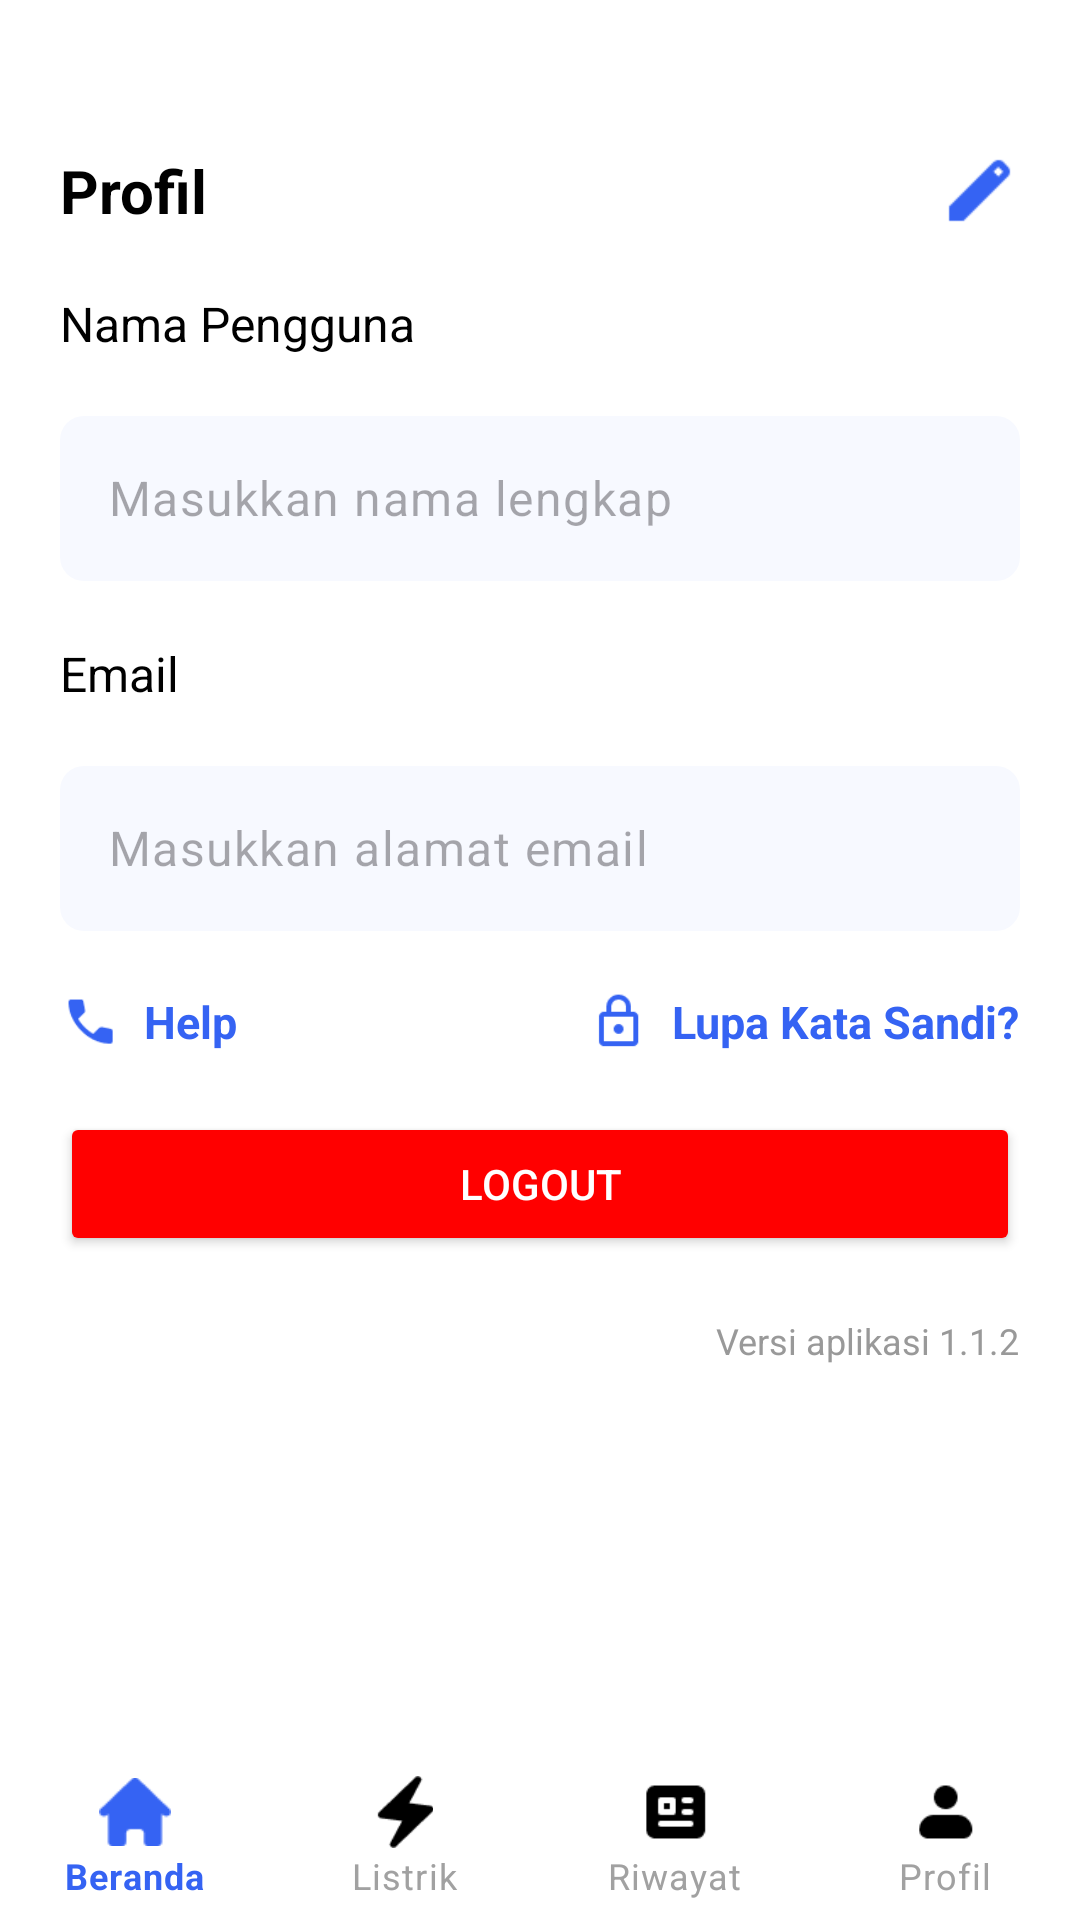

Icon click points for this 1080px×1920px phone screenshot, format point (x, y):
Edit: point (979, 190)
